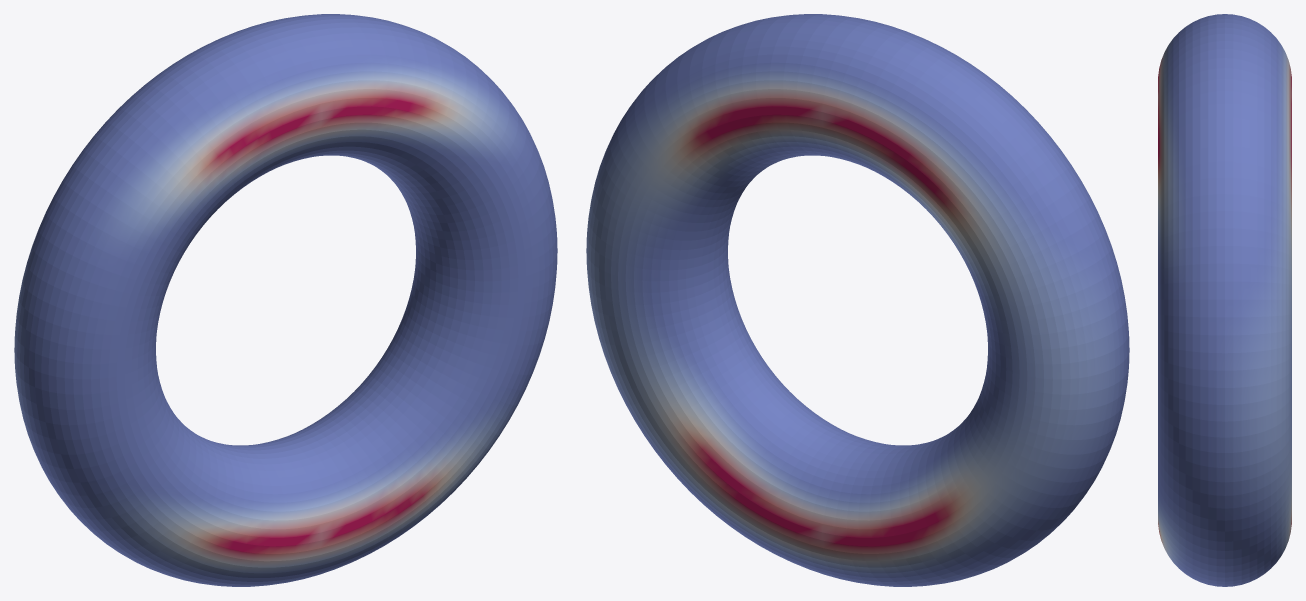
3 views of the same model, side by side, from view 1: azimuth 30°, elevation 25°; view 2: azimuth 150°, elevation 25°; view 3: azimuth 270°, elevation 25° (orthographic). The views are drawn at different scales.
Visible parts, largest first — view 1: world; view 2: world; view 3: world.
Boxes of the visible parts, x1,y1,x2,y2 form: world: (14, 14, 557, 586); world: (586, 14, 1129, 586); world: (1158, 14, 1291, 586).
Size of the model in its own units: 16.53 by 16.53 by 3.86.
